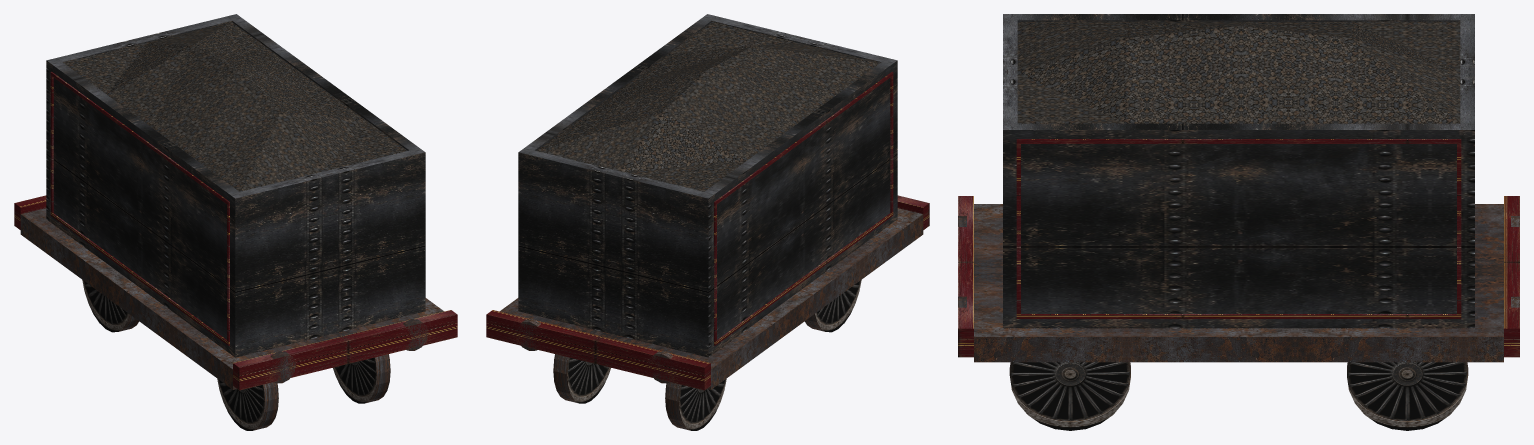
File: tender.glb
The picture shows the model from 3 angles, left to right: view 1: azimuth 30°, elevation 25°; view 2: azimuth 150°, elevation 25°; view 3: azimuth 270°, elevation 25°; orthographic projection. The views are drawn at different scales.
Parts seen in each view (by area): view 1: tender_coal_bunker, textured_coal_load, tender_frame, tender_red_border, tender_wheel_L_1, tender_wheel_R_1, tender_wheel_L_2, tender_buffers; view 2: tender_coal_bunker, textured_coal_load, tender_frame, tender_red_border, tender_wheel_L_2, tender_wheel_R_2, tender_wheel_L_1, tender_buffers; view 3: tender_coal_bunker, textured_coal_load, tender_frame, tender_wheel_R_1, tender_wheel_R_2, tender_red_border.
Part boxes in pixels (x1,y1,x2,y2): tender_coal_bunker: [46, 14, 425, 357]; textured_coal_load: [63, 22, 407, 191]; tender_frame: [14, 195, 457, 390]; tender_red_border: [50, 71, 229, 345]; tender_wheel_L_1: [217, 379, 278, 430]; tender_wheel_R_1: [333, 354, 390, 403]; tender_wheel_L_2: [82, 280, 138, 332]; tender_buffers: [268, 319, 428, 383]; tender_coal_bunker: [518, 14, 897, 357]; textured_coal_load: [536, 22, 880, 191]; tender_frame: [486, 195, 929, 390]; tender_red_border: [714, 71, 893, 345]; tender_wheel_L_2: [665, 379, 726, 430]; tender_wheel_R_2: [553, 354, 610, 403]; tender_wheel_L_1: [805, 280, 861, 332]; tender_buffers: [516, 319, 674, 383]; tender_coal_bunker: [1003, 14, 1474, 328]; textured_coal_load: [1017, 21, 1460, 123]; tender_frame: [958, 196, 1519, 362]; tender_wheel_R_1: [1009, 362, 1130, 430]; tender_wheel_R_2: [1347, 362, 1468, 430]; tender_red_border: [1016, 139, 1461, 318].
Bounding box in the file's own units: 2.8 × 3.6 × 5.
Materials: 5 (5 with a texture image).
